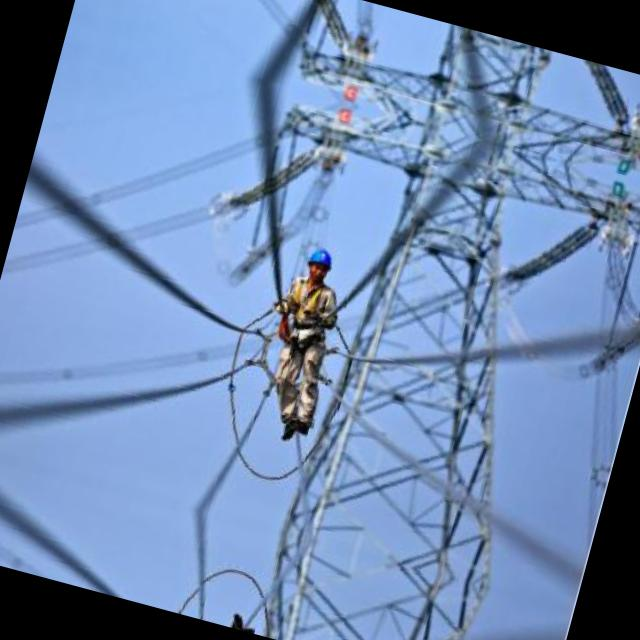helmet: (299, 240, 340, 286)
